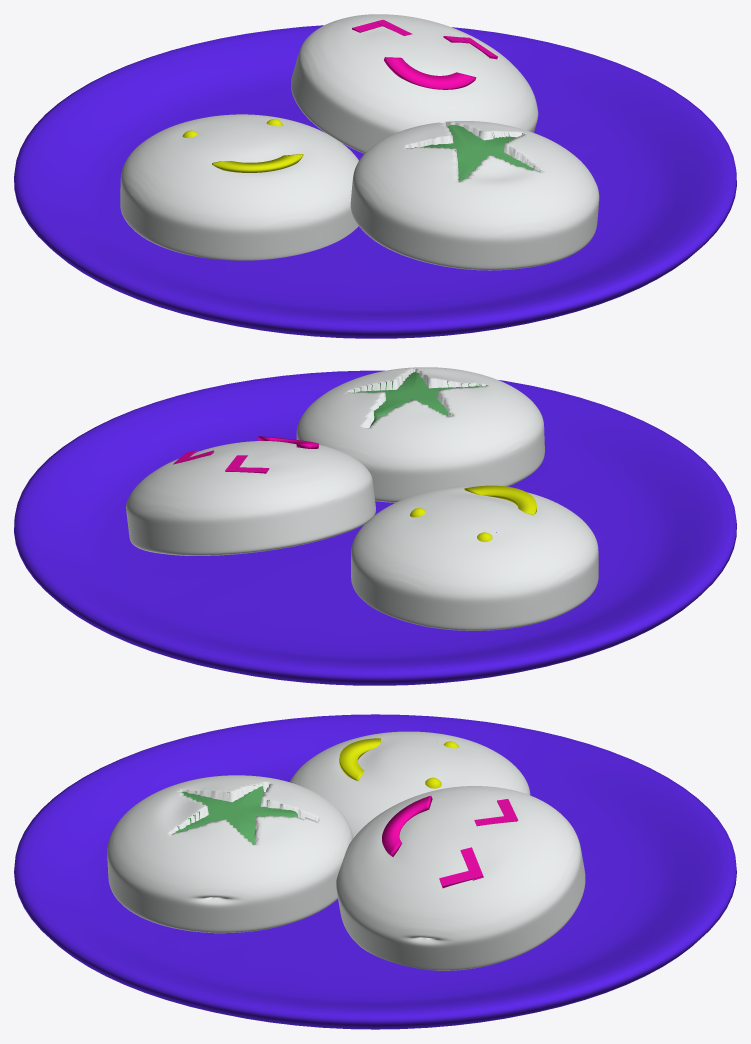
3 renders of one model, top to bottom at view 1: azimuth 30°, elevation 25°; view 2: azimuth 150°, elevation 25°; view 3: azimuth 270°, elevation 25°, orthographic.
Parts seen in each view (by area): view 1: Object_13, Object_12, Object_3, Object_2, Object_14, Object_11, Object_6; view 2: Object_13, Object_3, Object_2, Object_12, Object_14, Object_6; view 3: Object_13, Object_2, Object_12, Object_3, Object_14, Object_11, Object_6.
Boxes of the visible parts, x1,y1,x2,y2 form: Object_13: [14, 25, 736, 338]; Object_12: [350, 121, 599, 270]; Object_3: [120, 114, 358, 260]; Object_2: [291, 14, 538, 153]; Object_14: [422, 125, 534, 182]; Object_11: [384, 57, 476, 89]; Object_6: [212, 154, 303, 172]; Object_13: [14, 370, 736, 685]; Object_3: [351, 486, 598, 630]; Object_2: [126, 441, 375, 555]; Object_12: [296, 367, 544, 502]; Object_14: [354, 371, 486, 425]; Object_6: [464, 485, 536, 515]; Object_13: [14, 714, 736, 1029]; Object_2: [336, 786, 585, 970]; Object_12: [107, 775, 352, 933]; Object_3: [290, 731, 530, 838]; Object_14: [175, 784, 297, 844]; Object_11: [382, 795, 432, 856]; Object_6: [339, 738, 381, 781].
Size of the model in its own units: 3.09 by 0.7414 by 3.09.
